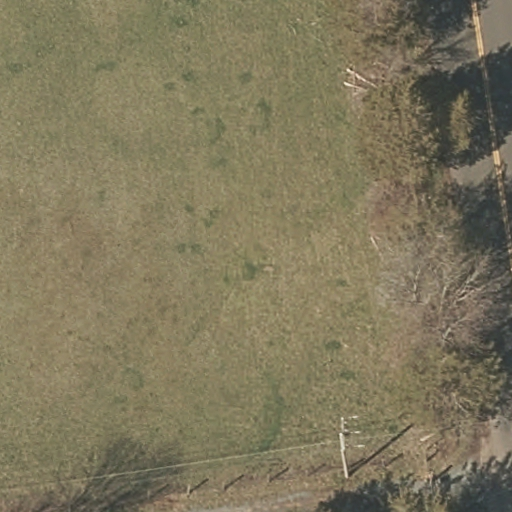DT: (332, 416, 362, 452)
